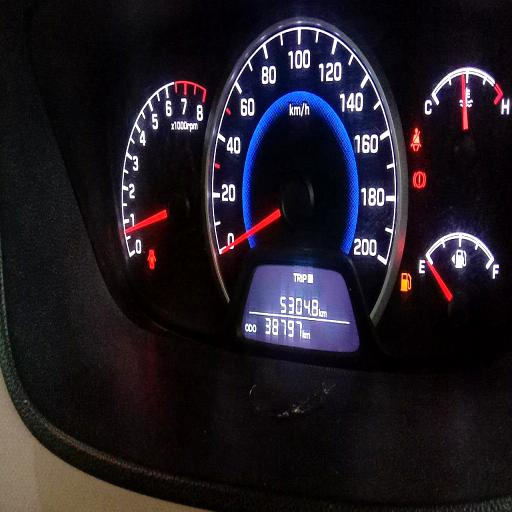belt: (411, 127, 421, 152)
brake_system_fault: (412, 170, 426, 188)
tachometer: (121, 76, 210, 289)
